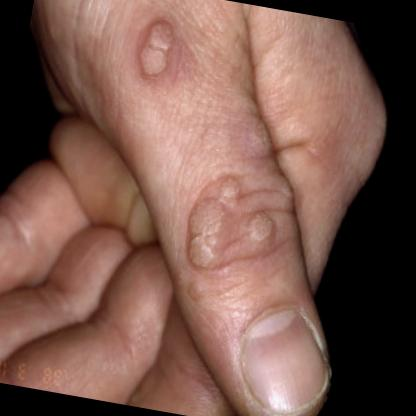Warts: (178, 188, 230, 276), (130, 3, 182, 90), (238, 196, 283, 254)
